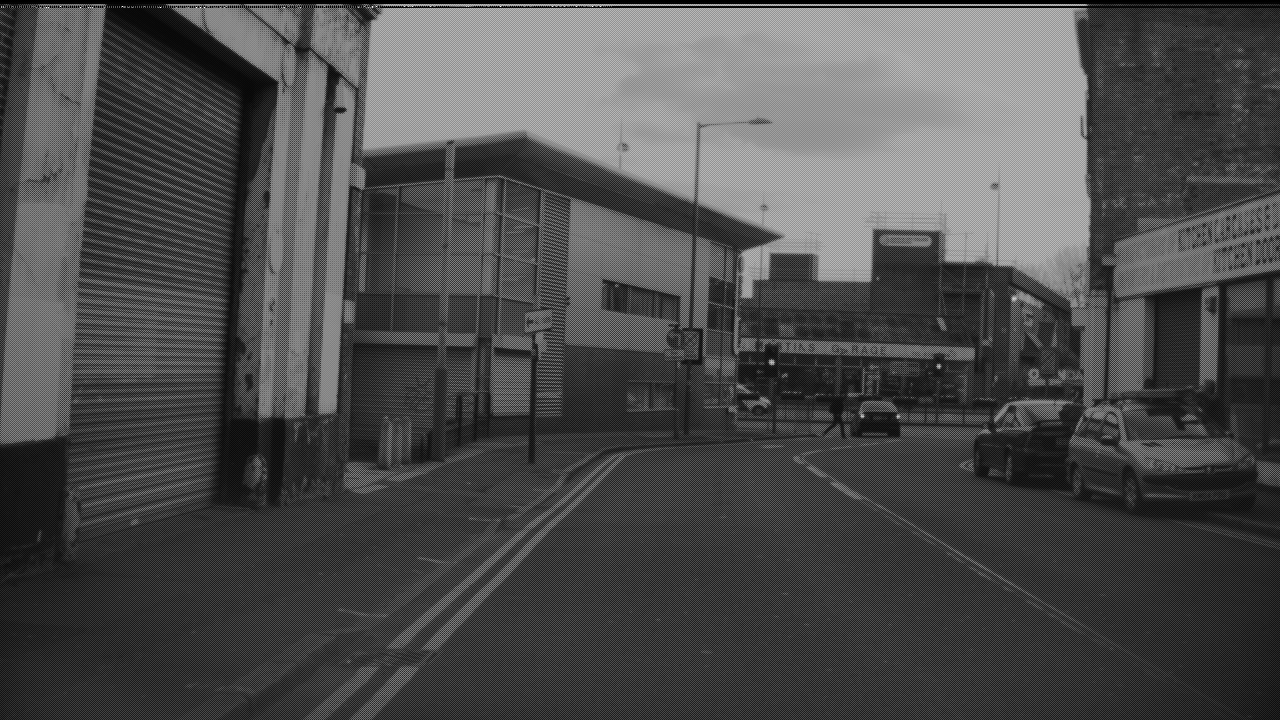pole: (579, 121, 597, 427)
